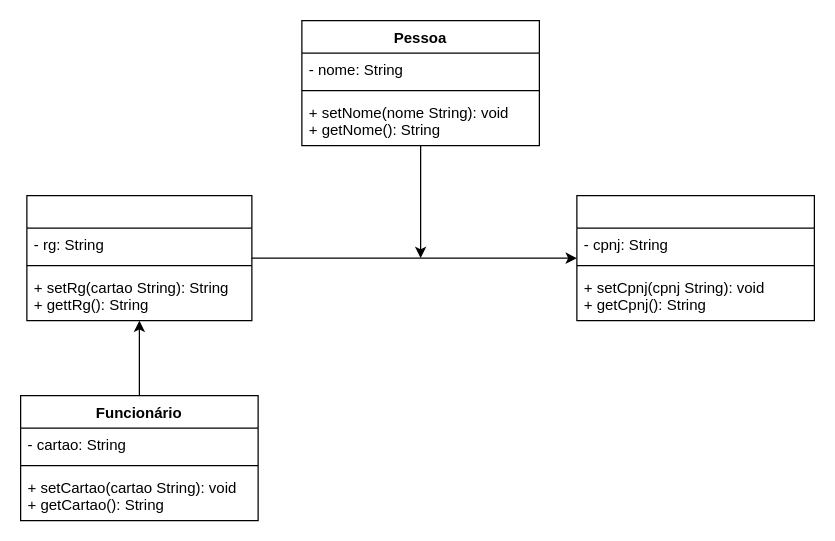
Some shapes in this 835 by 541 pixel diagram are drawn without their labels. The box of each missing label's shape, as (x1, y1, x2, y2) in pixels:
PessoaFisica: (26, 194, 252, 321)
PessoaJuridica: (576, 194, 814, 321)
